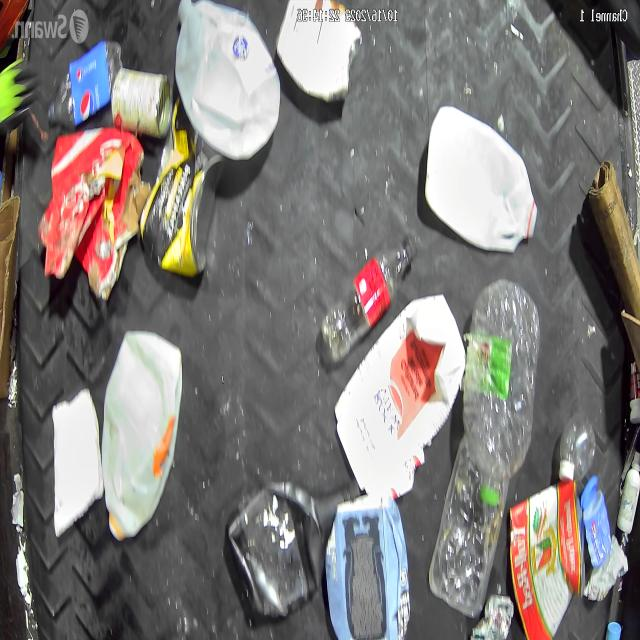can: (139, 95, 222, 277), (276, 0, 362, 103), (110, 66, 173, 139)
milk_jug: (101, 330, 183, 542), (175, 0, 281, 160), (425, 105, 538, 253)
non_white_jug: (226, 476, 362, 619), (324, 490, 411, 640)
plastic_bottle: (464, 281, 540, 505), (428, 438, 508, 617), (320, 235, 418, 362), (48, 40, 123, 128), (559, 413, 596, 485)
